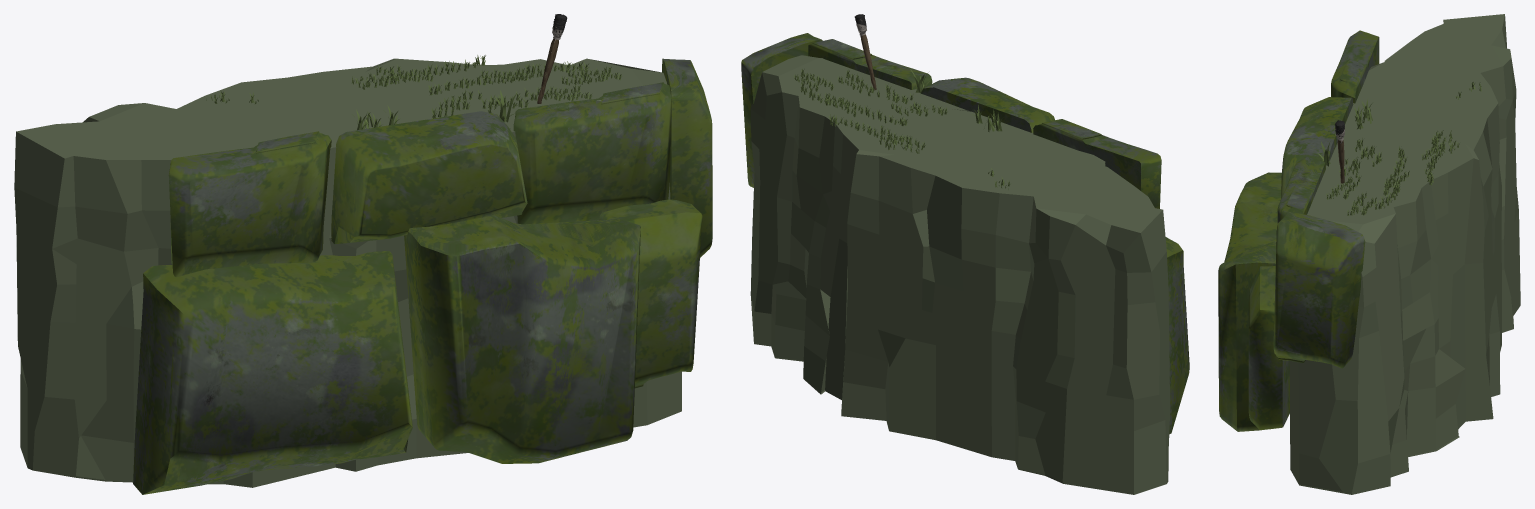
Rendered from banners_place.glb.
3 renders of one model, left to right at view 1: azimuth 30°, elevation 25°; view 2: azimuth 150°, elevation 25°; view 3: azimuth 270°, elevation 25°, orthographic. The views are drawn at different scales.
Visible parts, largest first — view 1: Cube.025, cliff_first_plan.001, grass_1_plan, torch_1_plan; view 2: cliff_first_plan.001, Cube.025, grass_1_plan, torch_1_plan; view 3: cliff_first_plan.001, Cube.025, grass_1_plan, torch_1_plan.
Boxes of the visible parts, box(x1,y1,x2,y2) form: Cube.025: box(133, 58, 712, 494); cliff_first_plan.001: box(14, 58, 681, 487); grass_1_plan: box(206, 55, 621, 130); torch_1_plan: box(537, 14, 567, 103); cliff_first_plan.001: box(750, 55, 1170, 494); Cube.025: box(741, 33, 1189, 434); grass_1_plan: box(794, 69, 1010, 189); torch_1_plan: box(854, 14, 876, 90); cliff_first_plan.001: box(1289, 14, 1520, 494); Cube.025: box(1218, 30, 1379, 431); grass_1_plan: box(1317, 82, 1481, 215); torch_1_plan: box(1335, 120, 1344, 183).
Size of the model in its own units: 2.17 by 1.39 by 1.17.
5 materials, 3 textured.
